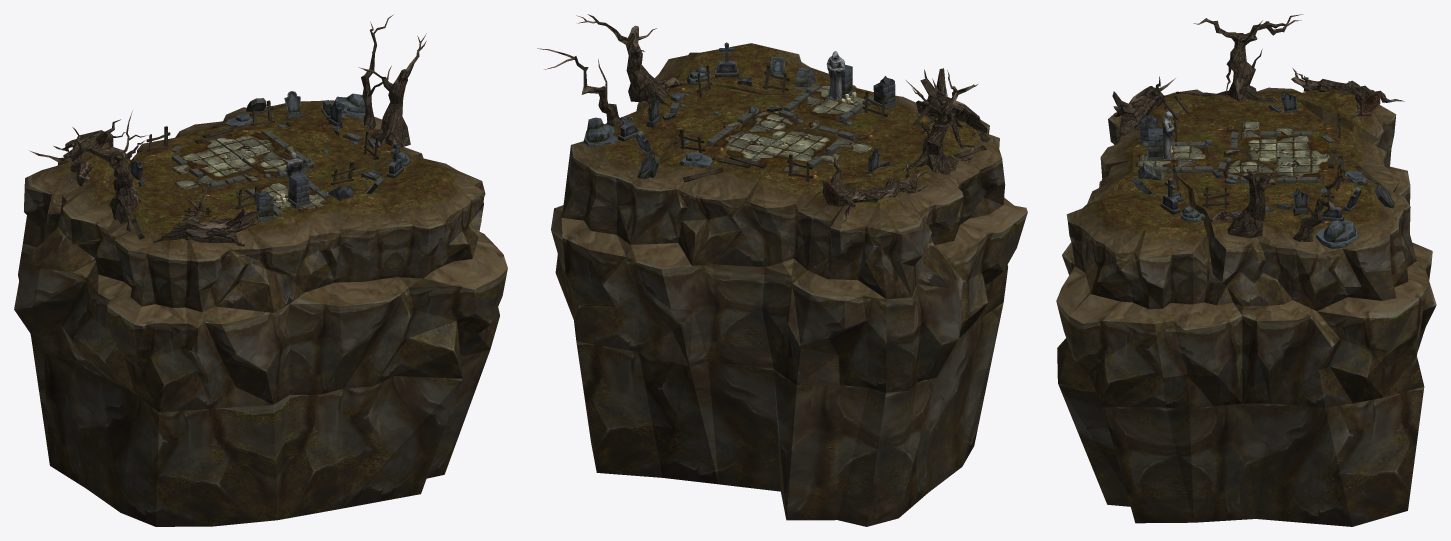
File: cell1U_D.fbx
The picture shows the model from 3 angles, left to right: view 1: azimuth 30°, elevation 25°; view 2: azimuth 150°, elevation 25°; view 3: azimuth 270°, elevation 25°; orthographic projection. The views are drawn at different scales.
Visible parts, largest first — view 1: cell1U_D; view 2: cell1U_D; view 3: cell1U_D.
Part boxes in pixels (x1,y1,x2,y2): cell1U_D: (14, 15, 507, 526); cell1U_D: (537, 14, 1027, 526); cell1U_D: (1056, 14, 1436, 526).
Bounding box in the file's own units: 26.01 × 23.87 × 21.54.
